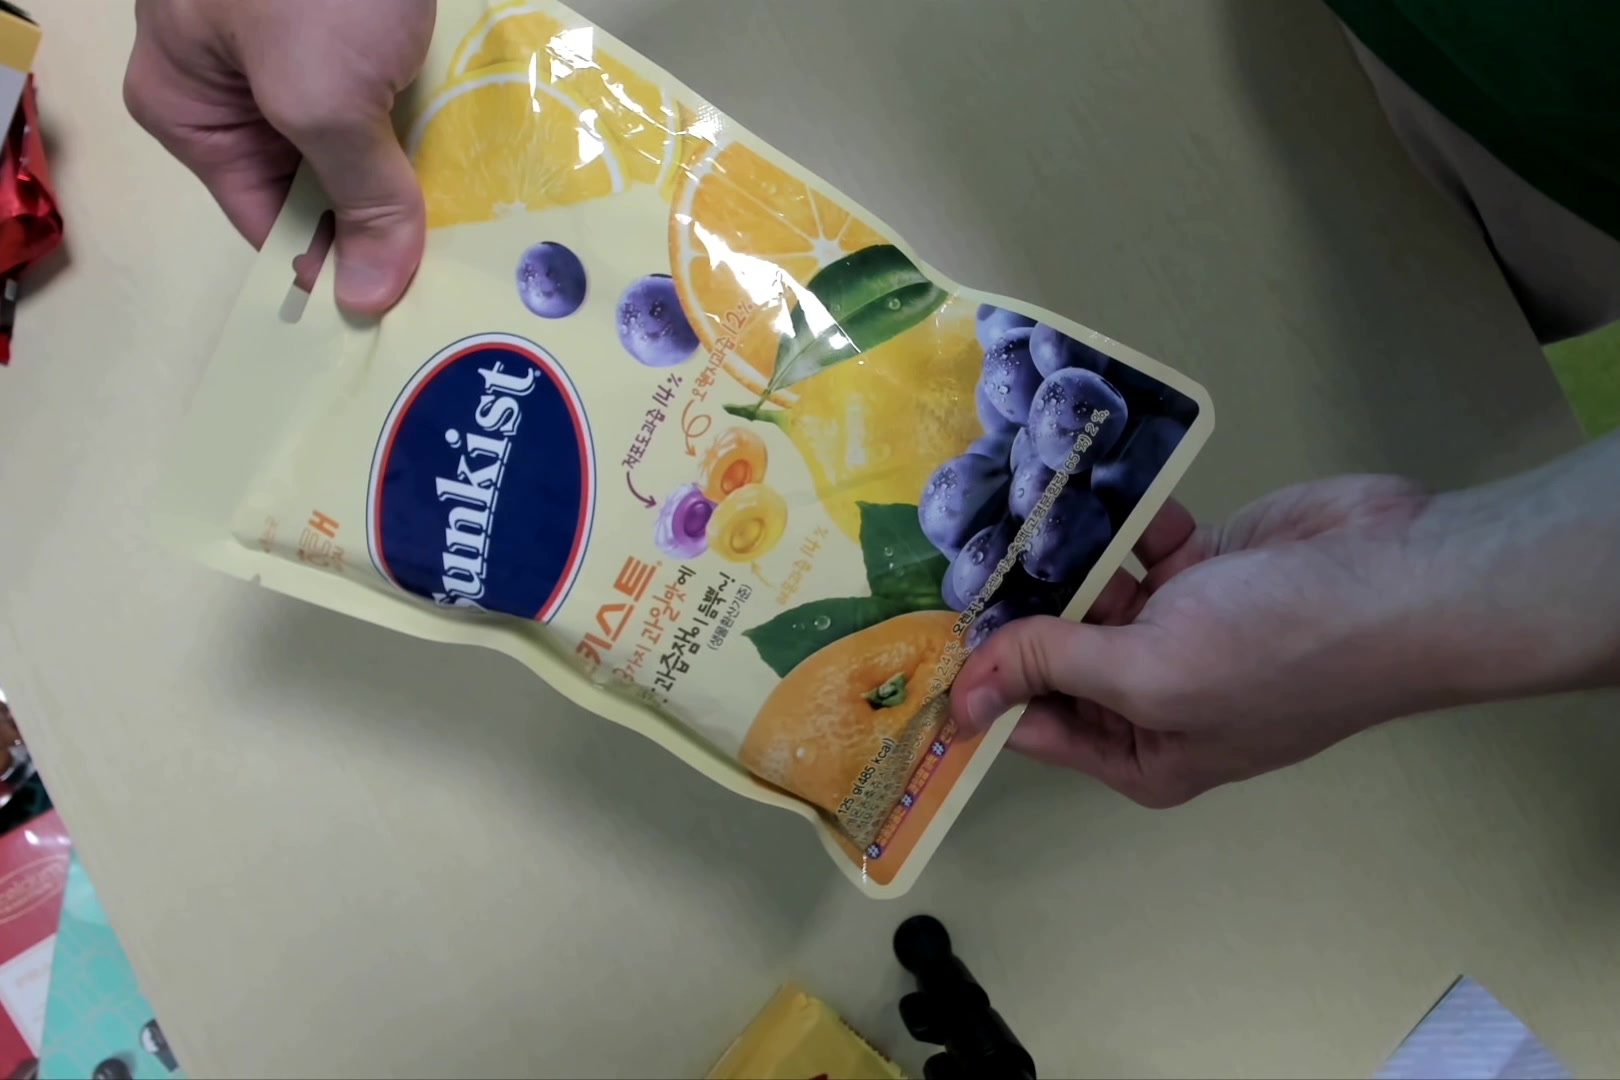SweetsChocolatesOthers_100-199g_NonHalal_NonHealthy: (174, 17, 1215, 892)
